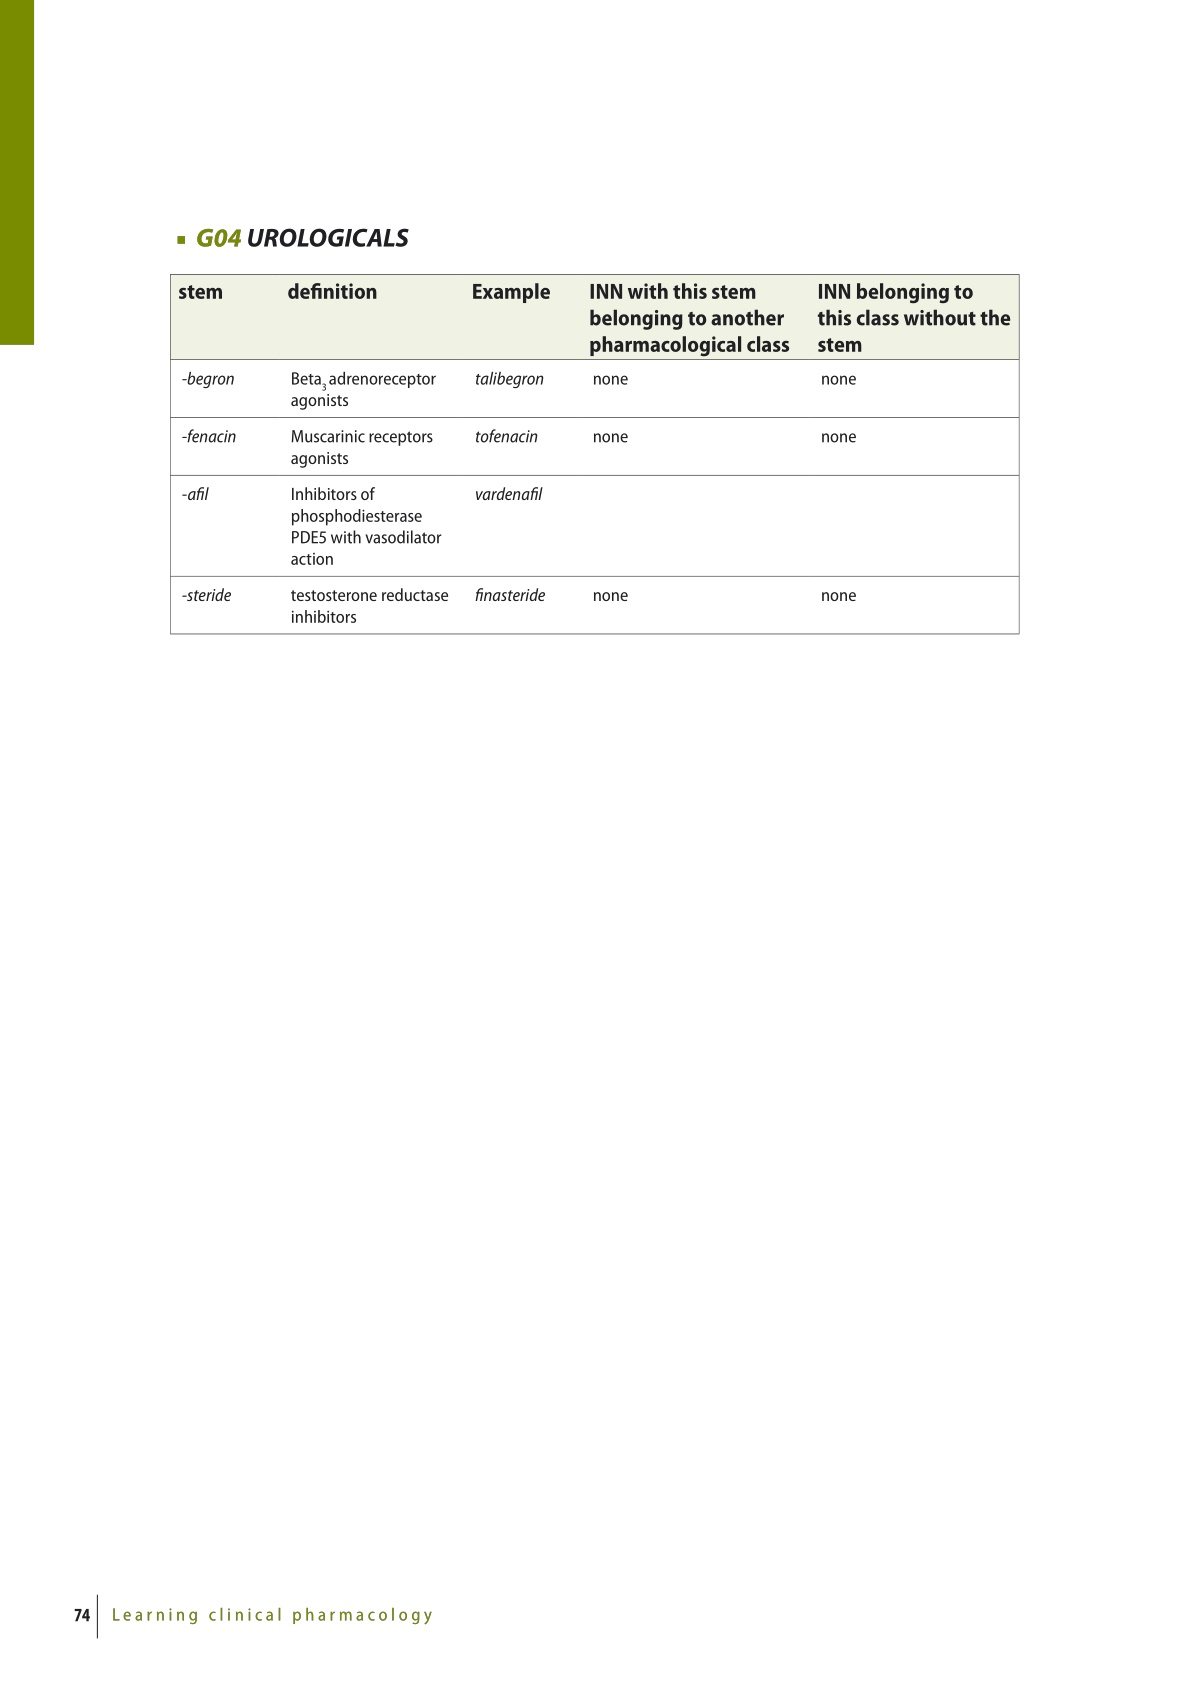partial_lined: (168, 271, 1022, 636)
